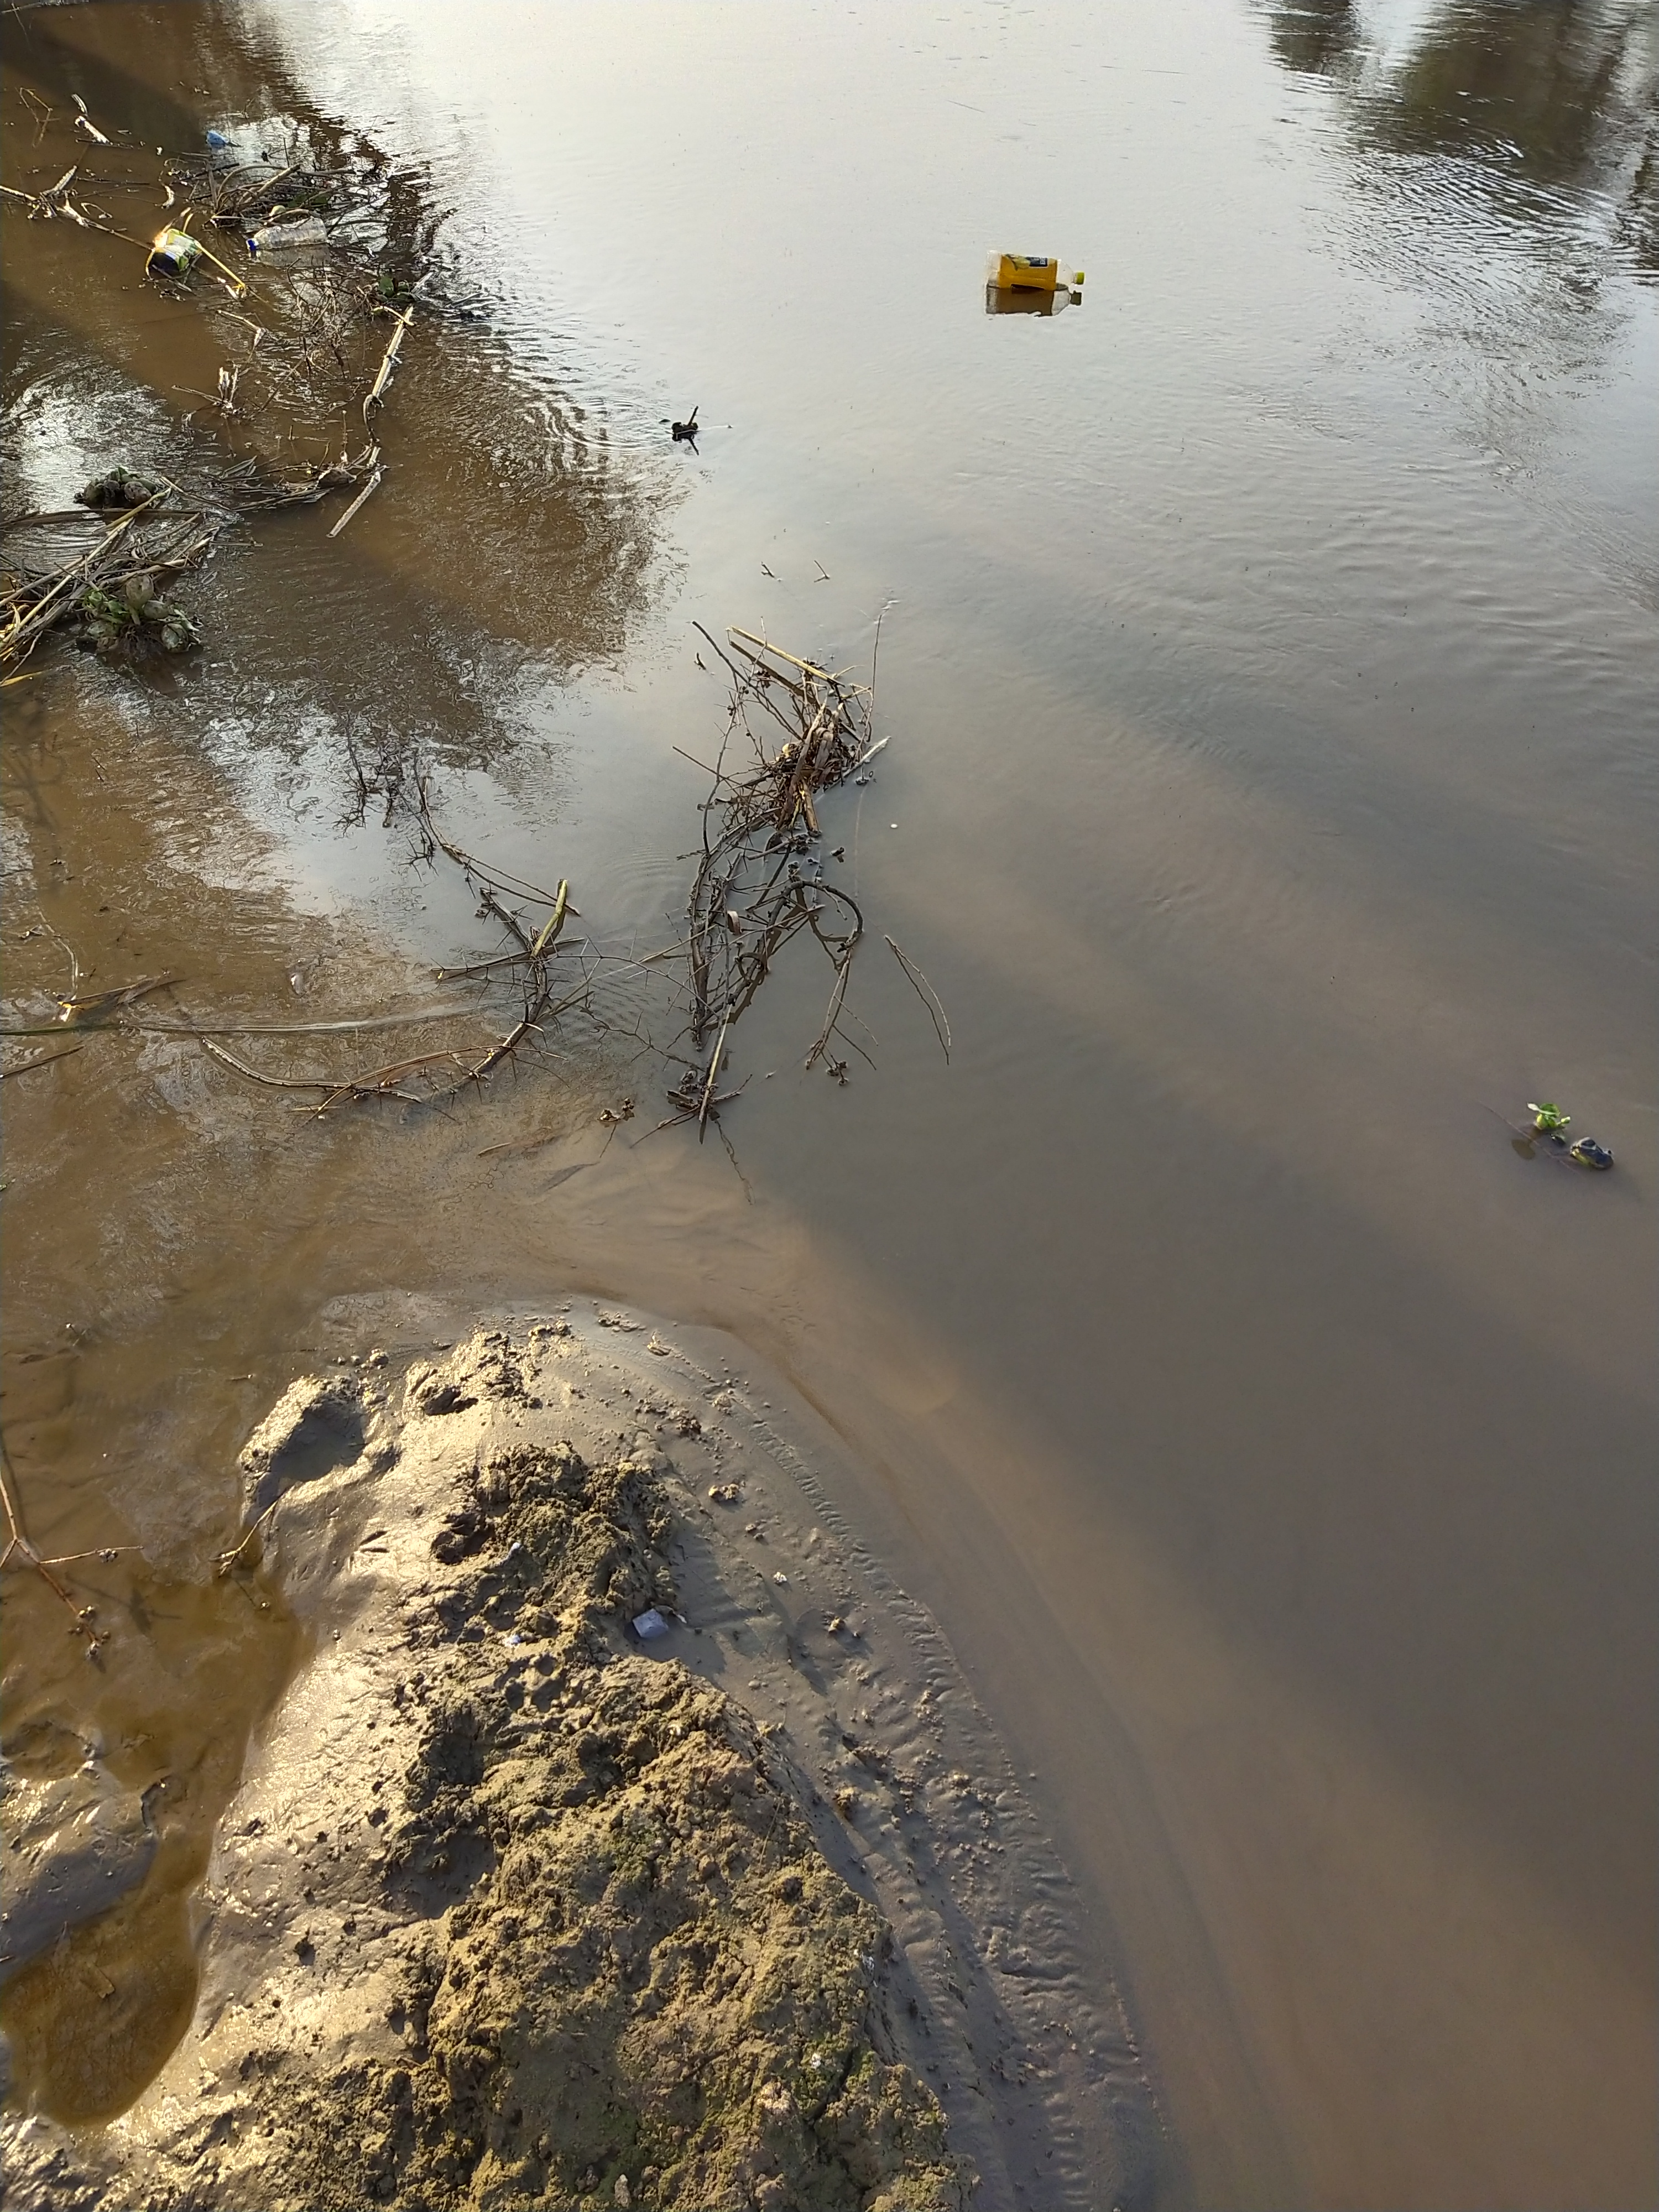Plastic Bottle: (983, 251, 1084, 293), (246, 216, 328, 249), (153, 228, 200, 273), (206, 129, 227, 145)
